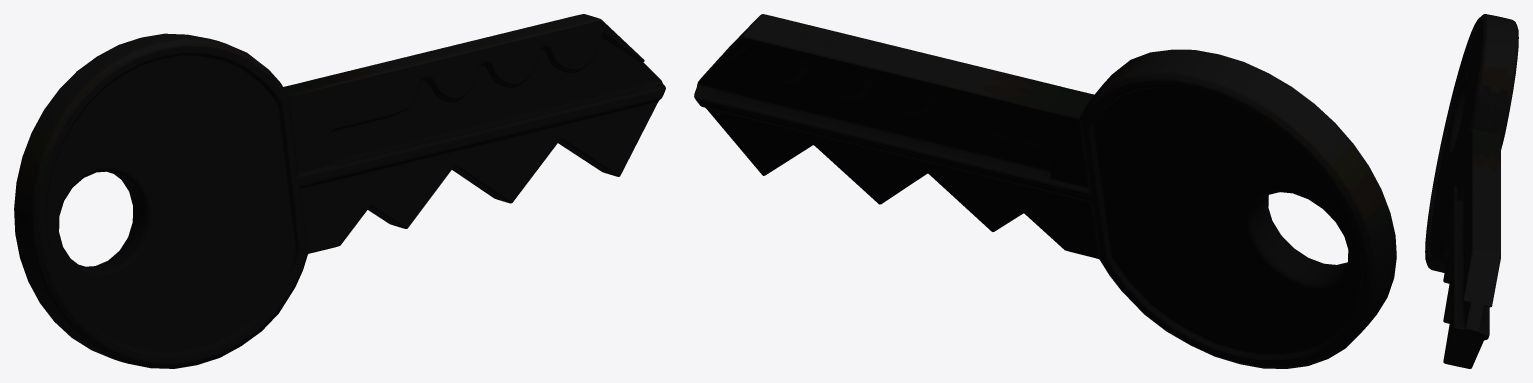
File: Key.fbx
3 views of the same model, side by side, from view 1: azimuth 30°, elevation 25°; view 2: azimuth 150°, elevation 25°; view 3: azimuth 270°, elevation 25° (orthographic). The views are drawn at different scales.
Visible parts, largest first — view 1: node_id29; view 2: node_id29; view 3: node_id29.
Part boxes in pixels (<box>): node_id29: <box>14,14,665,368</box>; node_id29: <box>694,14,1396,368</box>; node_id29: <box>1425,14,1518,368</box>.
Bounding box in the file's own units: 0.512 × 0.2325 × 0.0836.
Materials: 1 (1 with a texture image).
